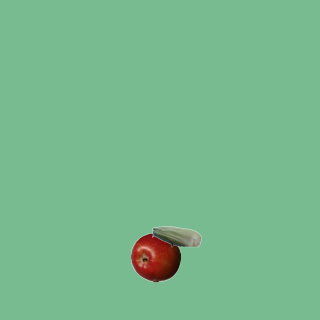Apple Braeburn: (130, 232, 180, 282)
Corn Husk: (151, 211, 201, 261)
